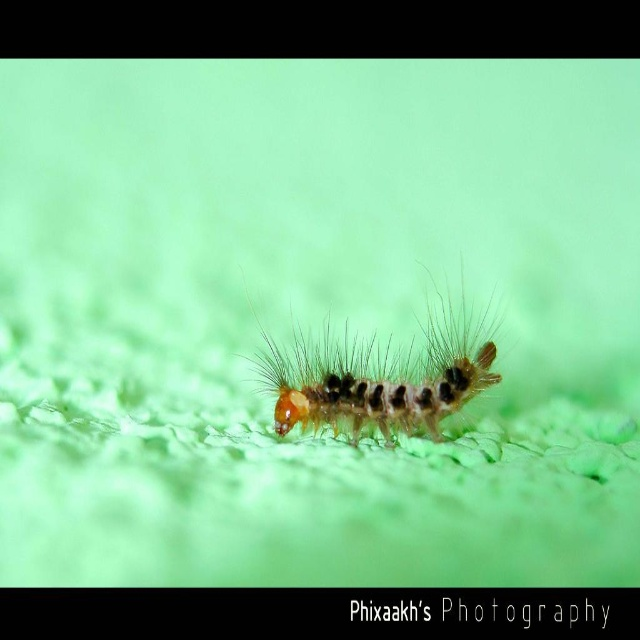Caterpillar: (228, 243, 522, 446)
